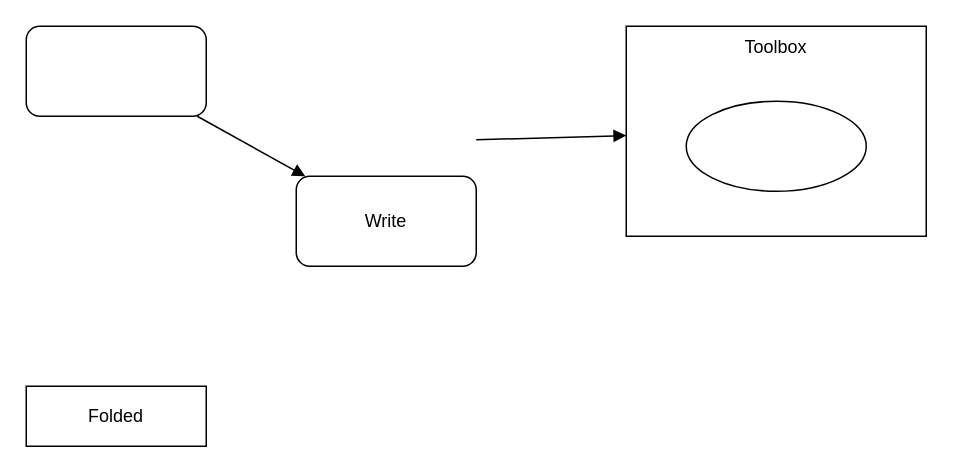
Some shapes in this 953 by 473 pixel diagram are drawn without their labels. The shapes that lost their labels are listed below. From the top down, each one's box as (x1, y1, x2, y2) in pixels, then its label:
(25, 25, 206, 116): Read
(685, 100, 866, 191): Ruler
